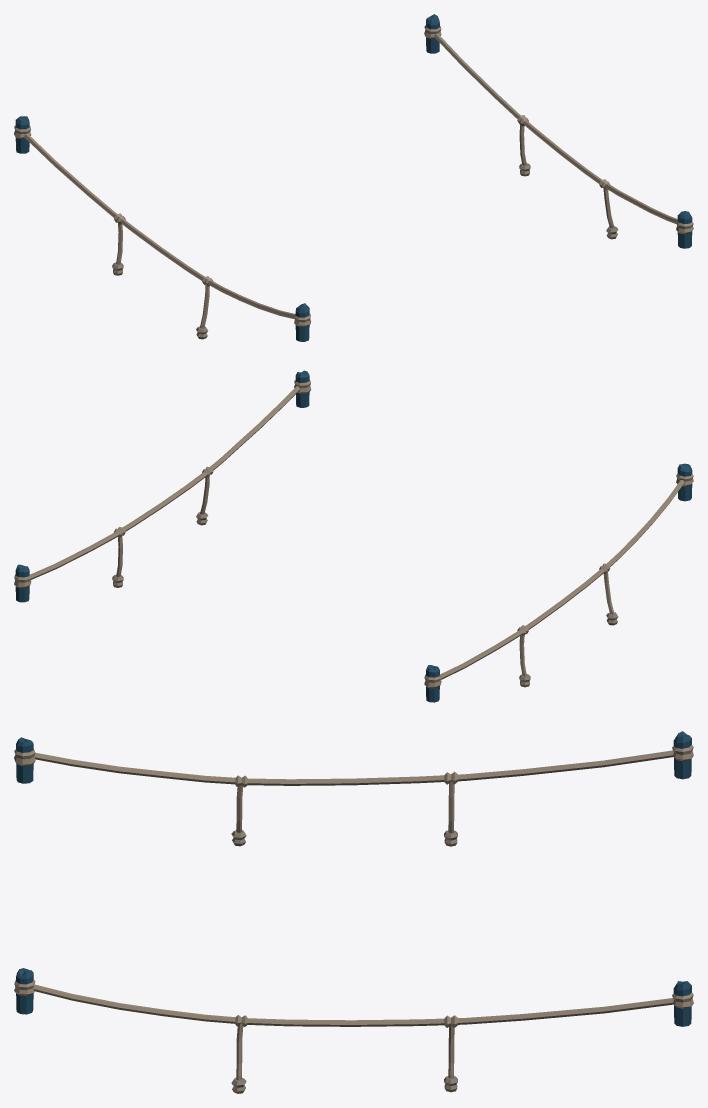
Rendered from SM_Veh_Ship_S_Middle_03.fbx.
3 views of the same model, one above another, from view 1: azimuth 30°, elevation 25°; view 2: azimuth 150°, elevation 25°; view 3: azimuth 270°, elevation 25° (orthographic). The views are drawn at different scales.
Parts seen in each view (by area): view 1: SM_Veh_Ship_S_Middle_03; view 2: SM_Veh_Ship_S_Middle_03; view 3: SM_Veh_Ship_S_Middle_03.
Part boxes in pixels (bbox=[...]): SM_Veh_Ship_S_Middle_03: bbox=[14, 14, 693, 341]; SM_Veh_Ship_S_Middle_03: bbox=[14, 370, 693, 702]; SM_Veh_Ship_S_Middle_03: bbox=[14, 731, 693, 1093].
Bounding box in the file's own units: 518 × 108 × 580.
Materials: 1 (1 with a texture image).
